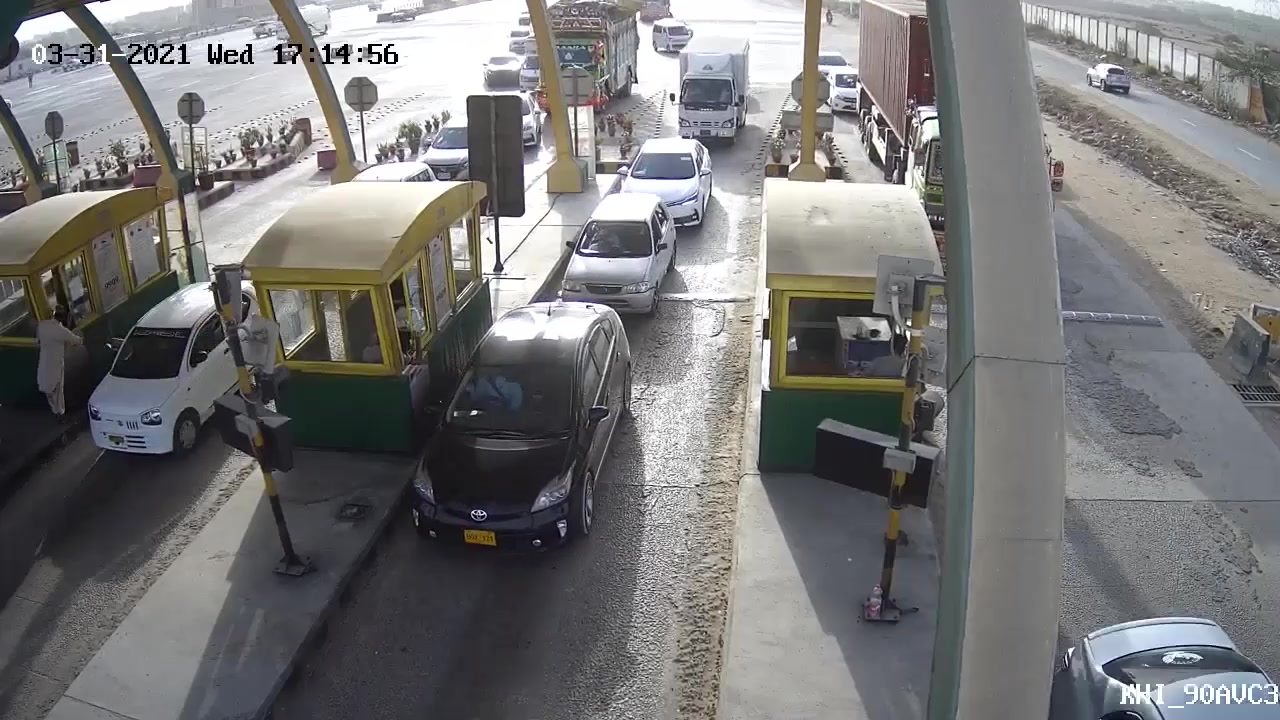F1: (409, 300, 634, 557), (560, 192, 680, 314)
